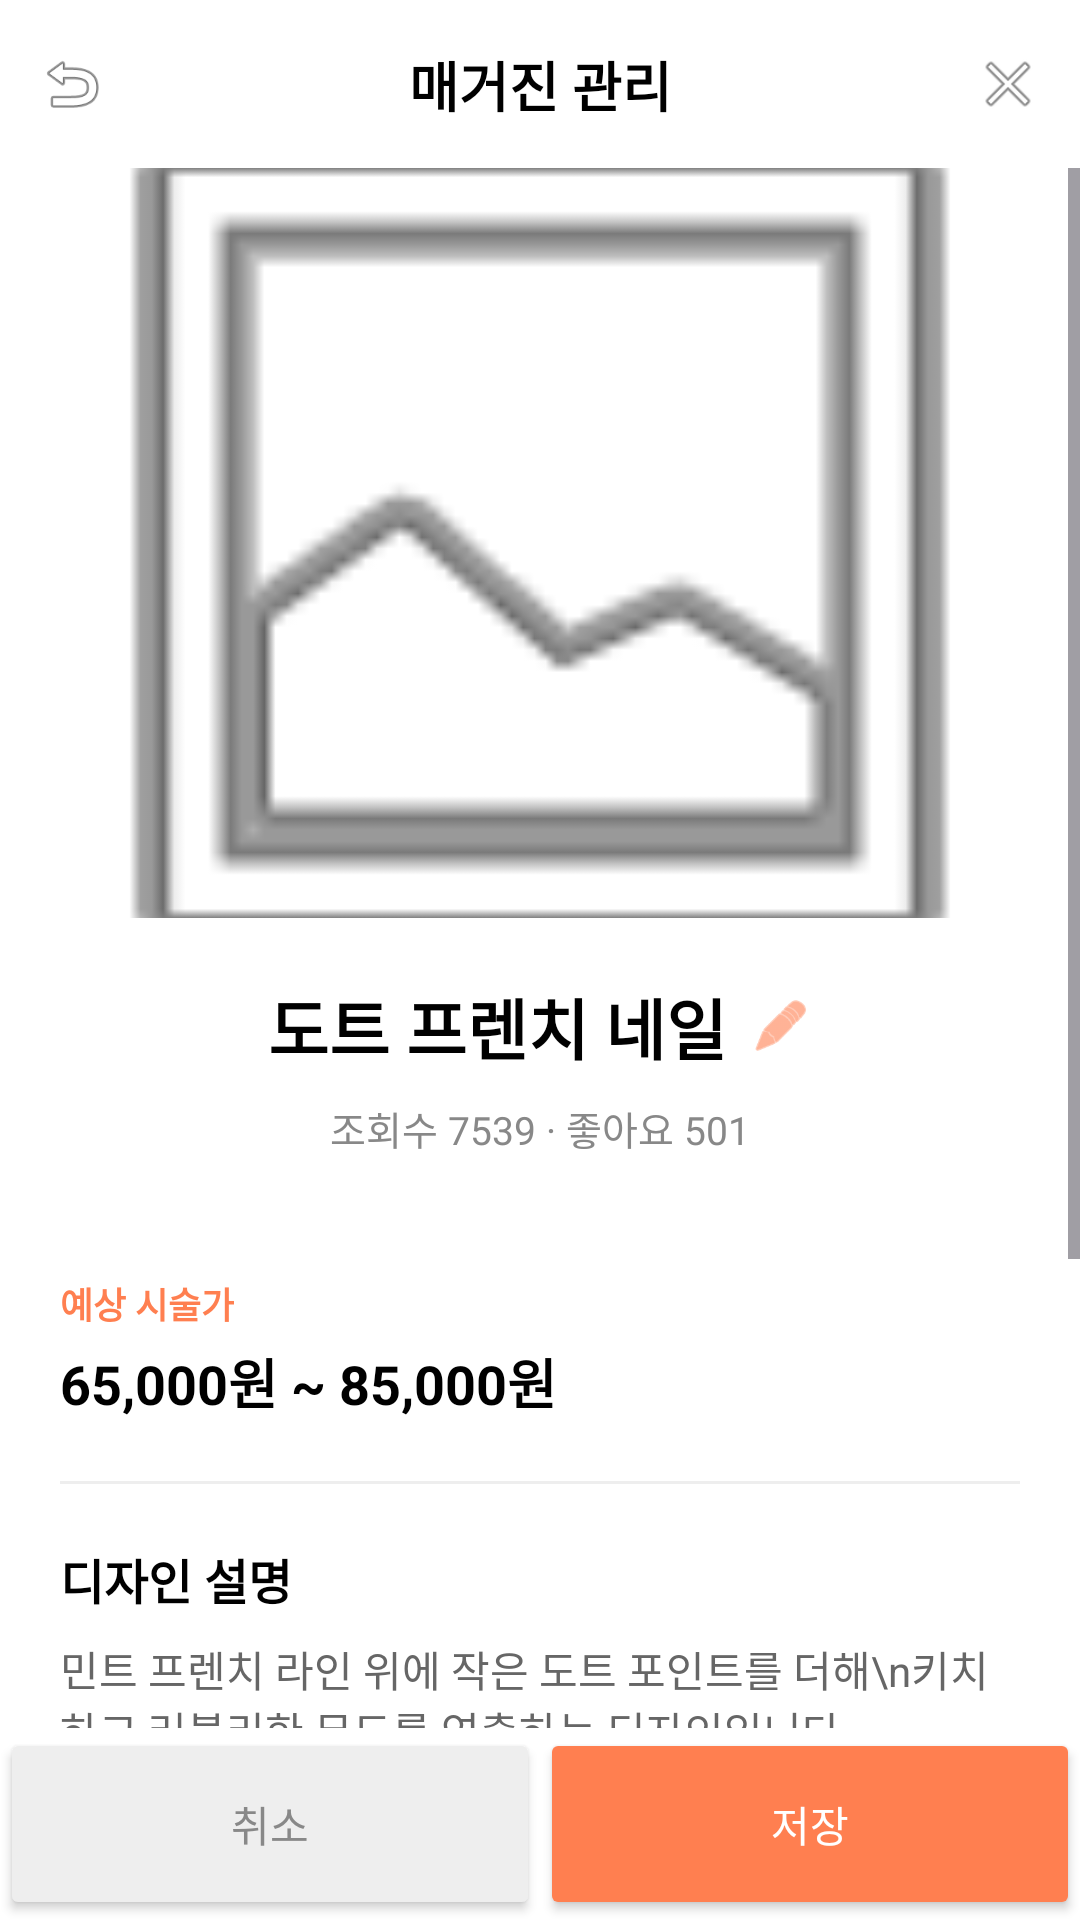

Icon bounding boxes for this 1080px x 1920px phone screenshot, format (x1, y1, x2, y2):
close clear cancel: (985, 61, 1031, 107)
edit: (755, 1000, 806, 1051)
revert: (47, 61, 99, 108)
